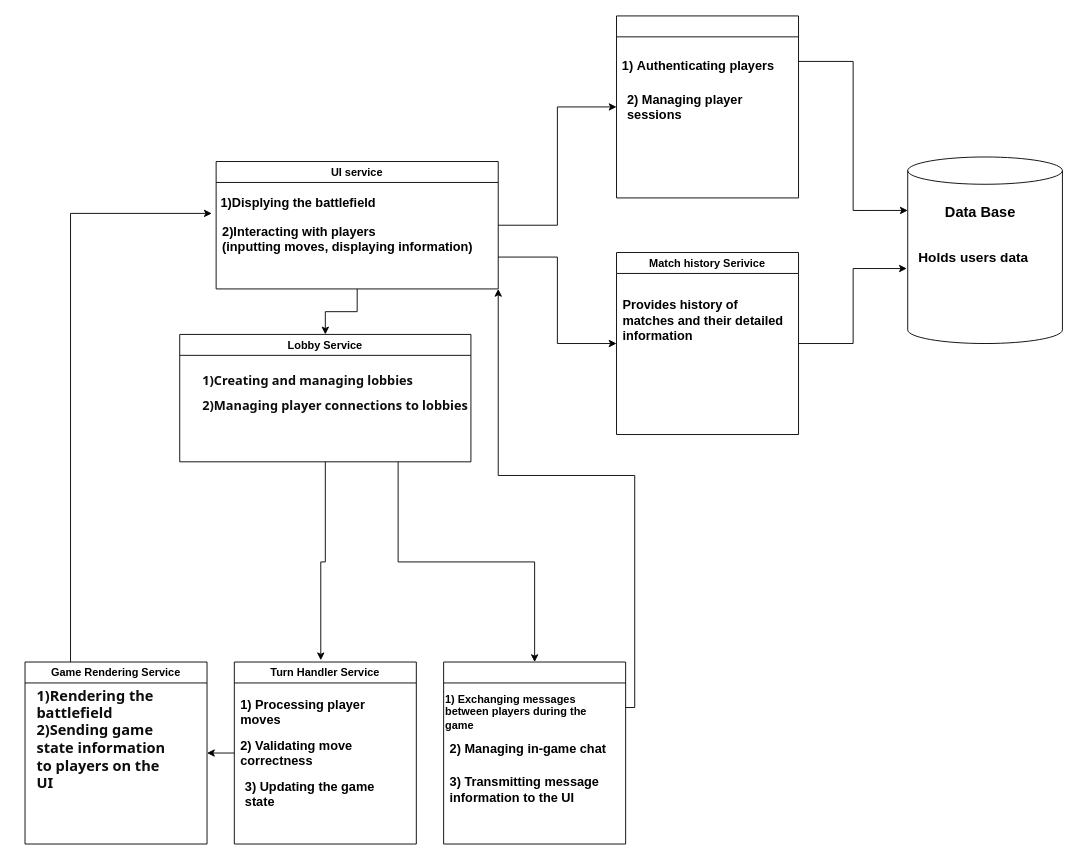
The diagram is 1078 pixels wide and 860 high, and some of its shapes have lost their labels. The box of each missing label's shape, as (x1, y1, x2, y2) in pixels:
Authentication Service: (616, 15, 799, 198)
Messaging Service: (443, 661, 626, 844)
